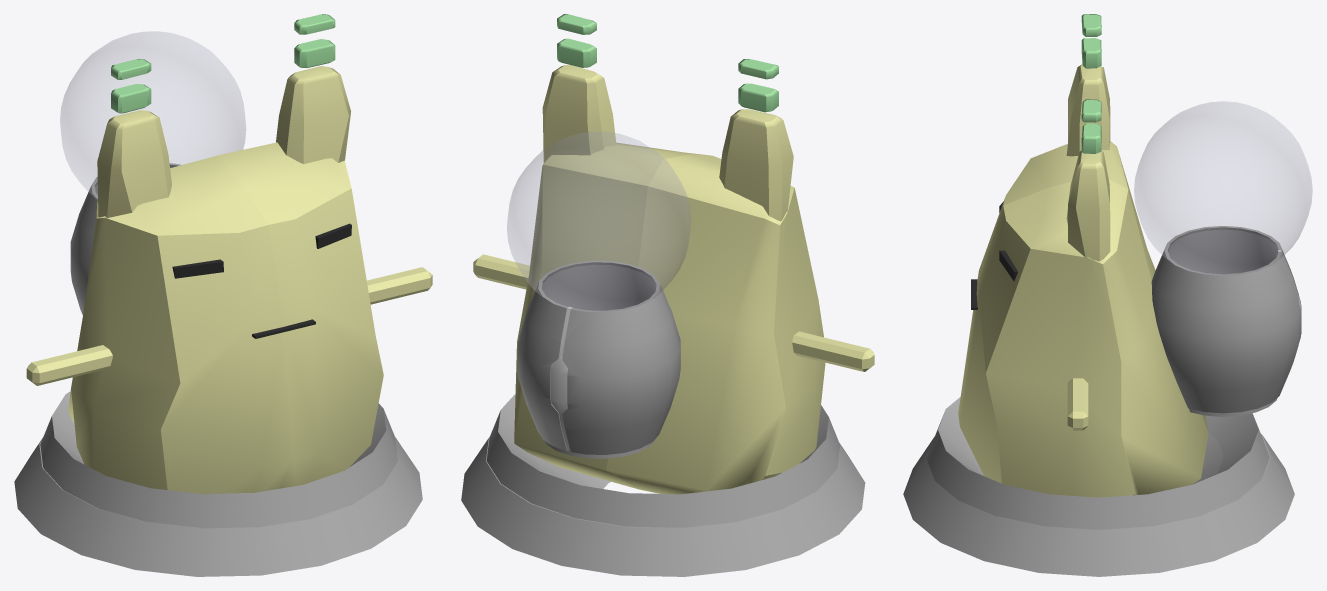
File: alien_backpack_hover_re_x2.fbx
3 views of the same model, side by side, from view 1: azimuth 30°, elevation 25°; view 2: azimuth 150°, elevation 25°; view 3: azimuth 270°, elevation 25° (orthographic). The views are drawn at different scales.
Visible parts, largest first — view 1: polySurface53; view 2: polySurface53; view 3: polySurface53.
Boxes of the visible parts, box(x1,y1,x2,y2) form: polySurface53: box(14, 14, 432, 576); polySurface53: box(461, 14, 874, 576); polySurface53: box(903, 14, 1312, 576).
Size of the model in its own units: 162 by 182 by 150.
